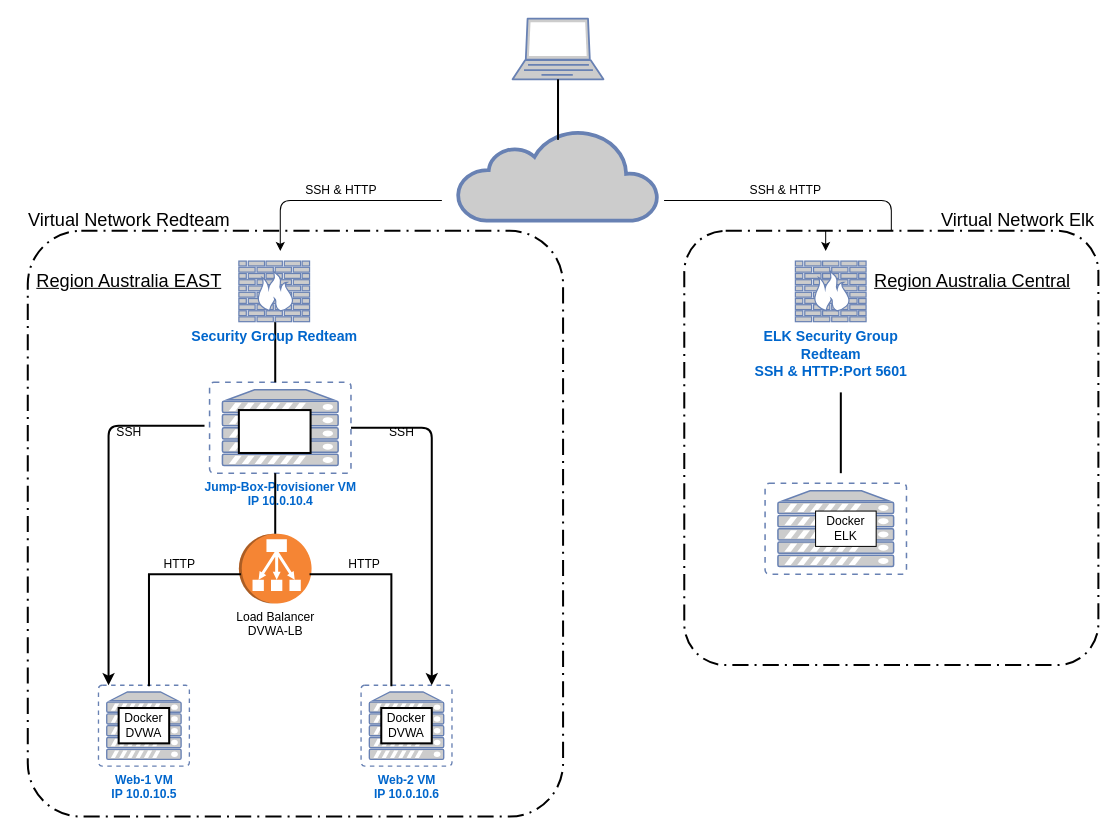
This 1120x834 diagram has some shape labels left out. Each missing label, with the box of its shape:
Docker Ansible: (237, 409, 311, 453)
Internet: (456, 128, 659, 221)
My Laptop: (511, 17, 604, 80)
VM IP 10.1.0.4: (764, 482, 907, 575)
